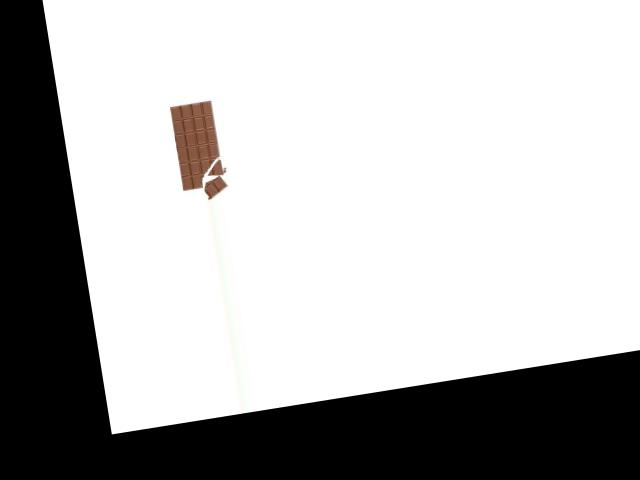chocolate: (162, 97, 239, 205)
